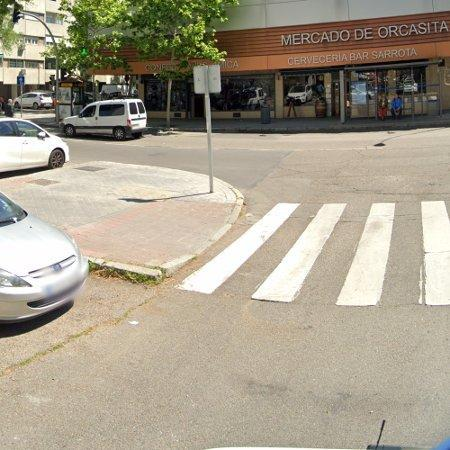crosswalks: (172, 200, 450, 313)
